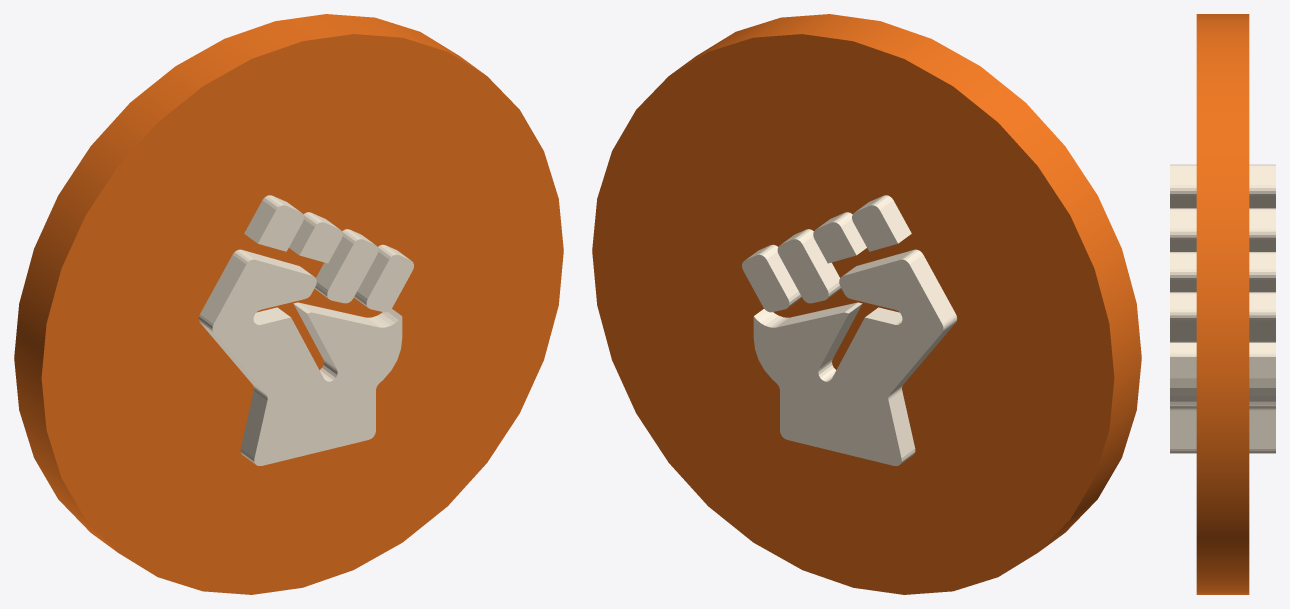
File: icon_unrest.gltf
3 views of the same model, side by side, from view 1: azimuth 30°, elevation 25°; view 2: azimuth 150°, elevation 25°; view 3: azimuth 270°, elevation 25° (orthographic). The views are drawn at different scales.
Parts seen in each view (by area): view 1: Cylinder, unrest; view 2: Cylinder, unrest; view 3: Cylinder, unrest.
Part boxes in pixels (left/top/right/bottom): Cylinder: left=14, top=14, right=563, bottom=594; unrest: left=198, top=195, right=413, bottom=465; Cylinder: left=592, top=14, right=1141, bottom=594; unrest: left=742, top=195, right=957, bottom=465; Cylinder: left=1196, top=14, right=1249, bottom=594; unrest: left=1170, top=164, right=1275, bottom=453.
Size of the model in its own units: 0.11 by 0.11 by 0.02.
